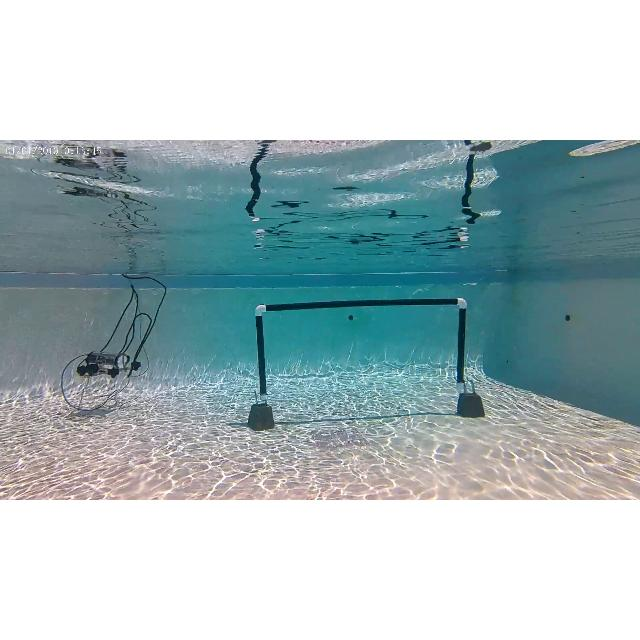prequal gate: (255, 298, 467, 400)
prequal gate leg l: (256, 302, 268, 404)
prequal gate leg r: (456, 298, 468, 390)
